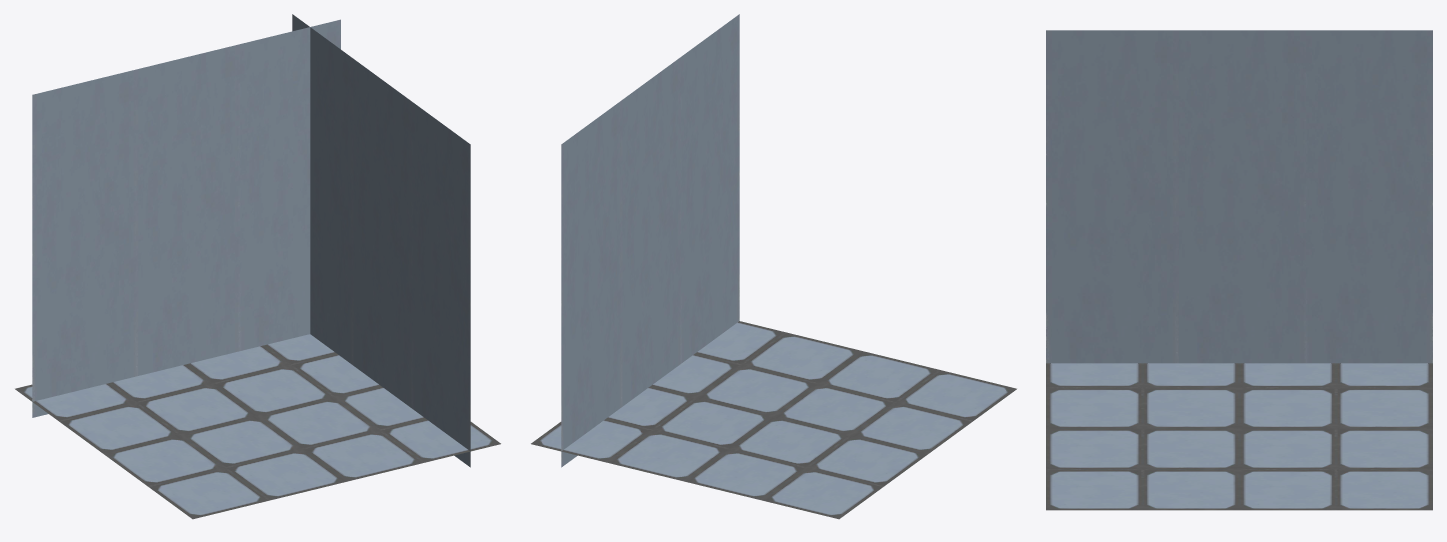
Rendered from Room_MTN_End.glb.
The picture shows the model from 3 angles, left to right: view 1: azimuth 30°, elevation 25°; view 2: azimuth 150°, elevation 25°; view 3: azimuth 270°, elevation 25°; orthographic projection. The views are drawn at different scales.
Visible parts, largest first — view 1: Room_MTN_End; view 2: Room_MTN_End; view 3: Room_MTN_End.
Boxes of the visible parts, x1,y1,x2,y2 form: Room_MTN_End: (15,14,500,519); Room_MTN_End: (531,14,1016,519); Room_MTN_End: (1046,30,1432,510).
Size of the model in its own units: 4 by 4 by 4.
Materials: 2 (2 with a texture image).
